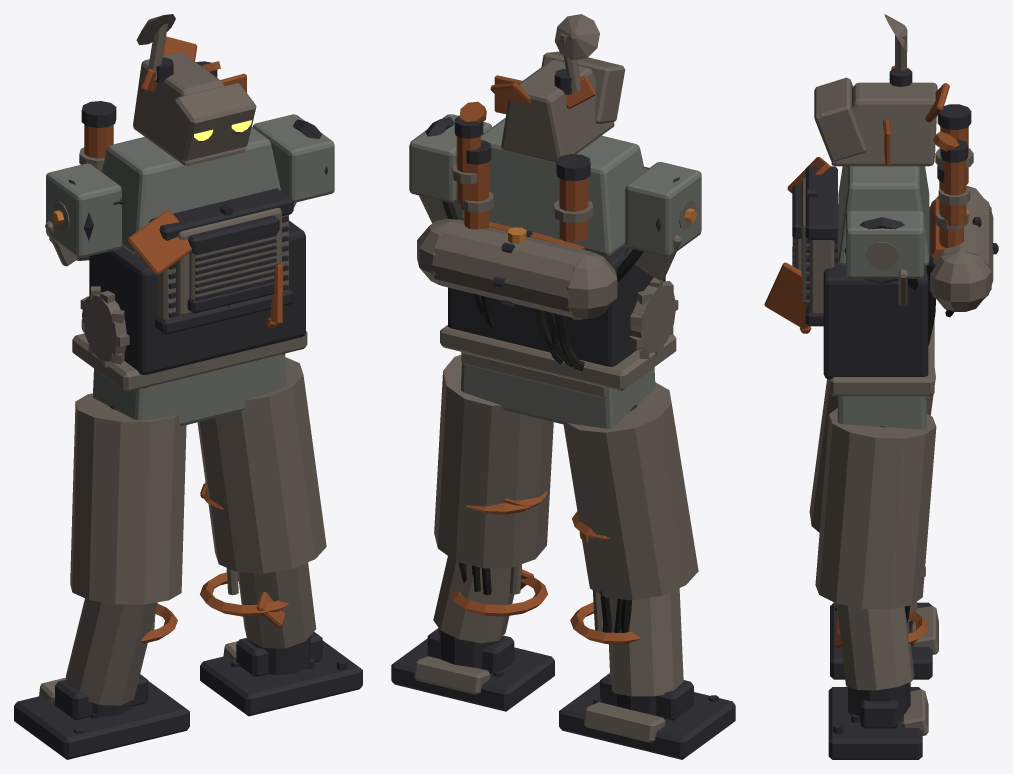
The model's file is ch_hauler.glb.
3 renders of one model, left to right at view 1: azimuth 30°, elevation 25°; view 2: azimuth 150°, elevation 25°; view 3: azimuth 270°, elevation 25°, orthographic. The views are drawn at different scales.
Parts seen in each view (by area): view 1: ch_hauler, limb_leg_l, limb_leg_r; view 2: ch_hauler, limb_leg_l, limb_leg_r; view 3: ch_hauler, limb_leg_r, limb_leg_l.
Boxes of the visible parts, left/top/right/bottom form: ch_hauler: left=45, top=14, right=334, bottom=426; limb_leg_l: left=14, top=393, right=189, bottom=759; limb_leg_r: left=197, top=357, right=362, bottom=716; ch_hauler: left=409, top=14, right=701, bottom=428; limb_leg_l: left=559, top=382, right=735, bottom=759; limb_leg_r: left=391, top=354, right=554, bottom=711; ch_hauler: left=764, top=14, right=998, bottom=429; limb_leg_r: left=815, top=408, right=936, bottom=759; limb_leg_l: left=809, top=368, right=938, bottom=679.
Bounding box in the file's own units: 0.3808 × 0.8475 × 0.2705.
